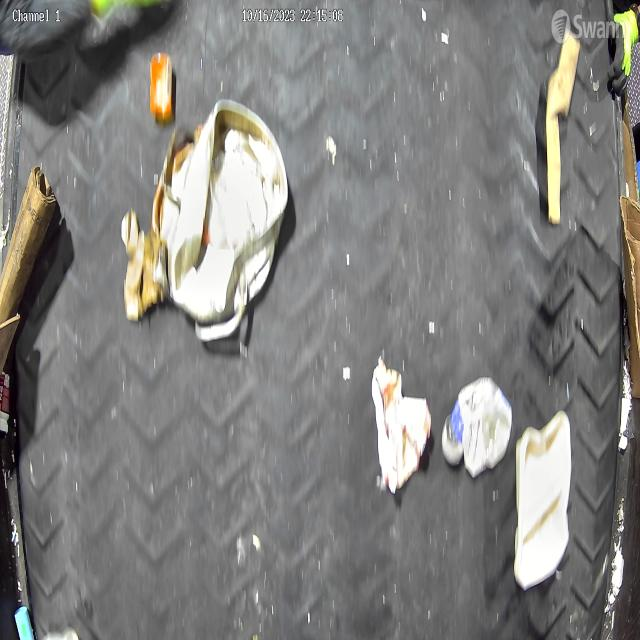can: (170, 97, 290, 323)
milk_jug: (516, 410, 572, 589)
